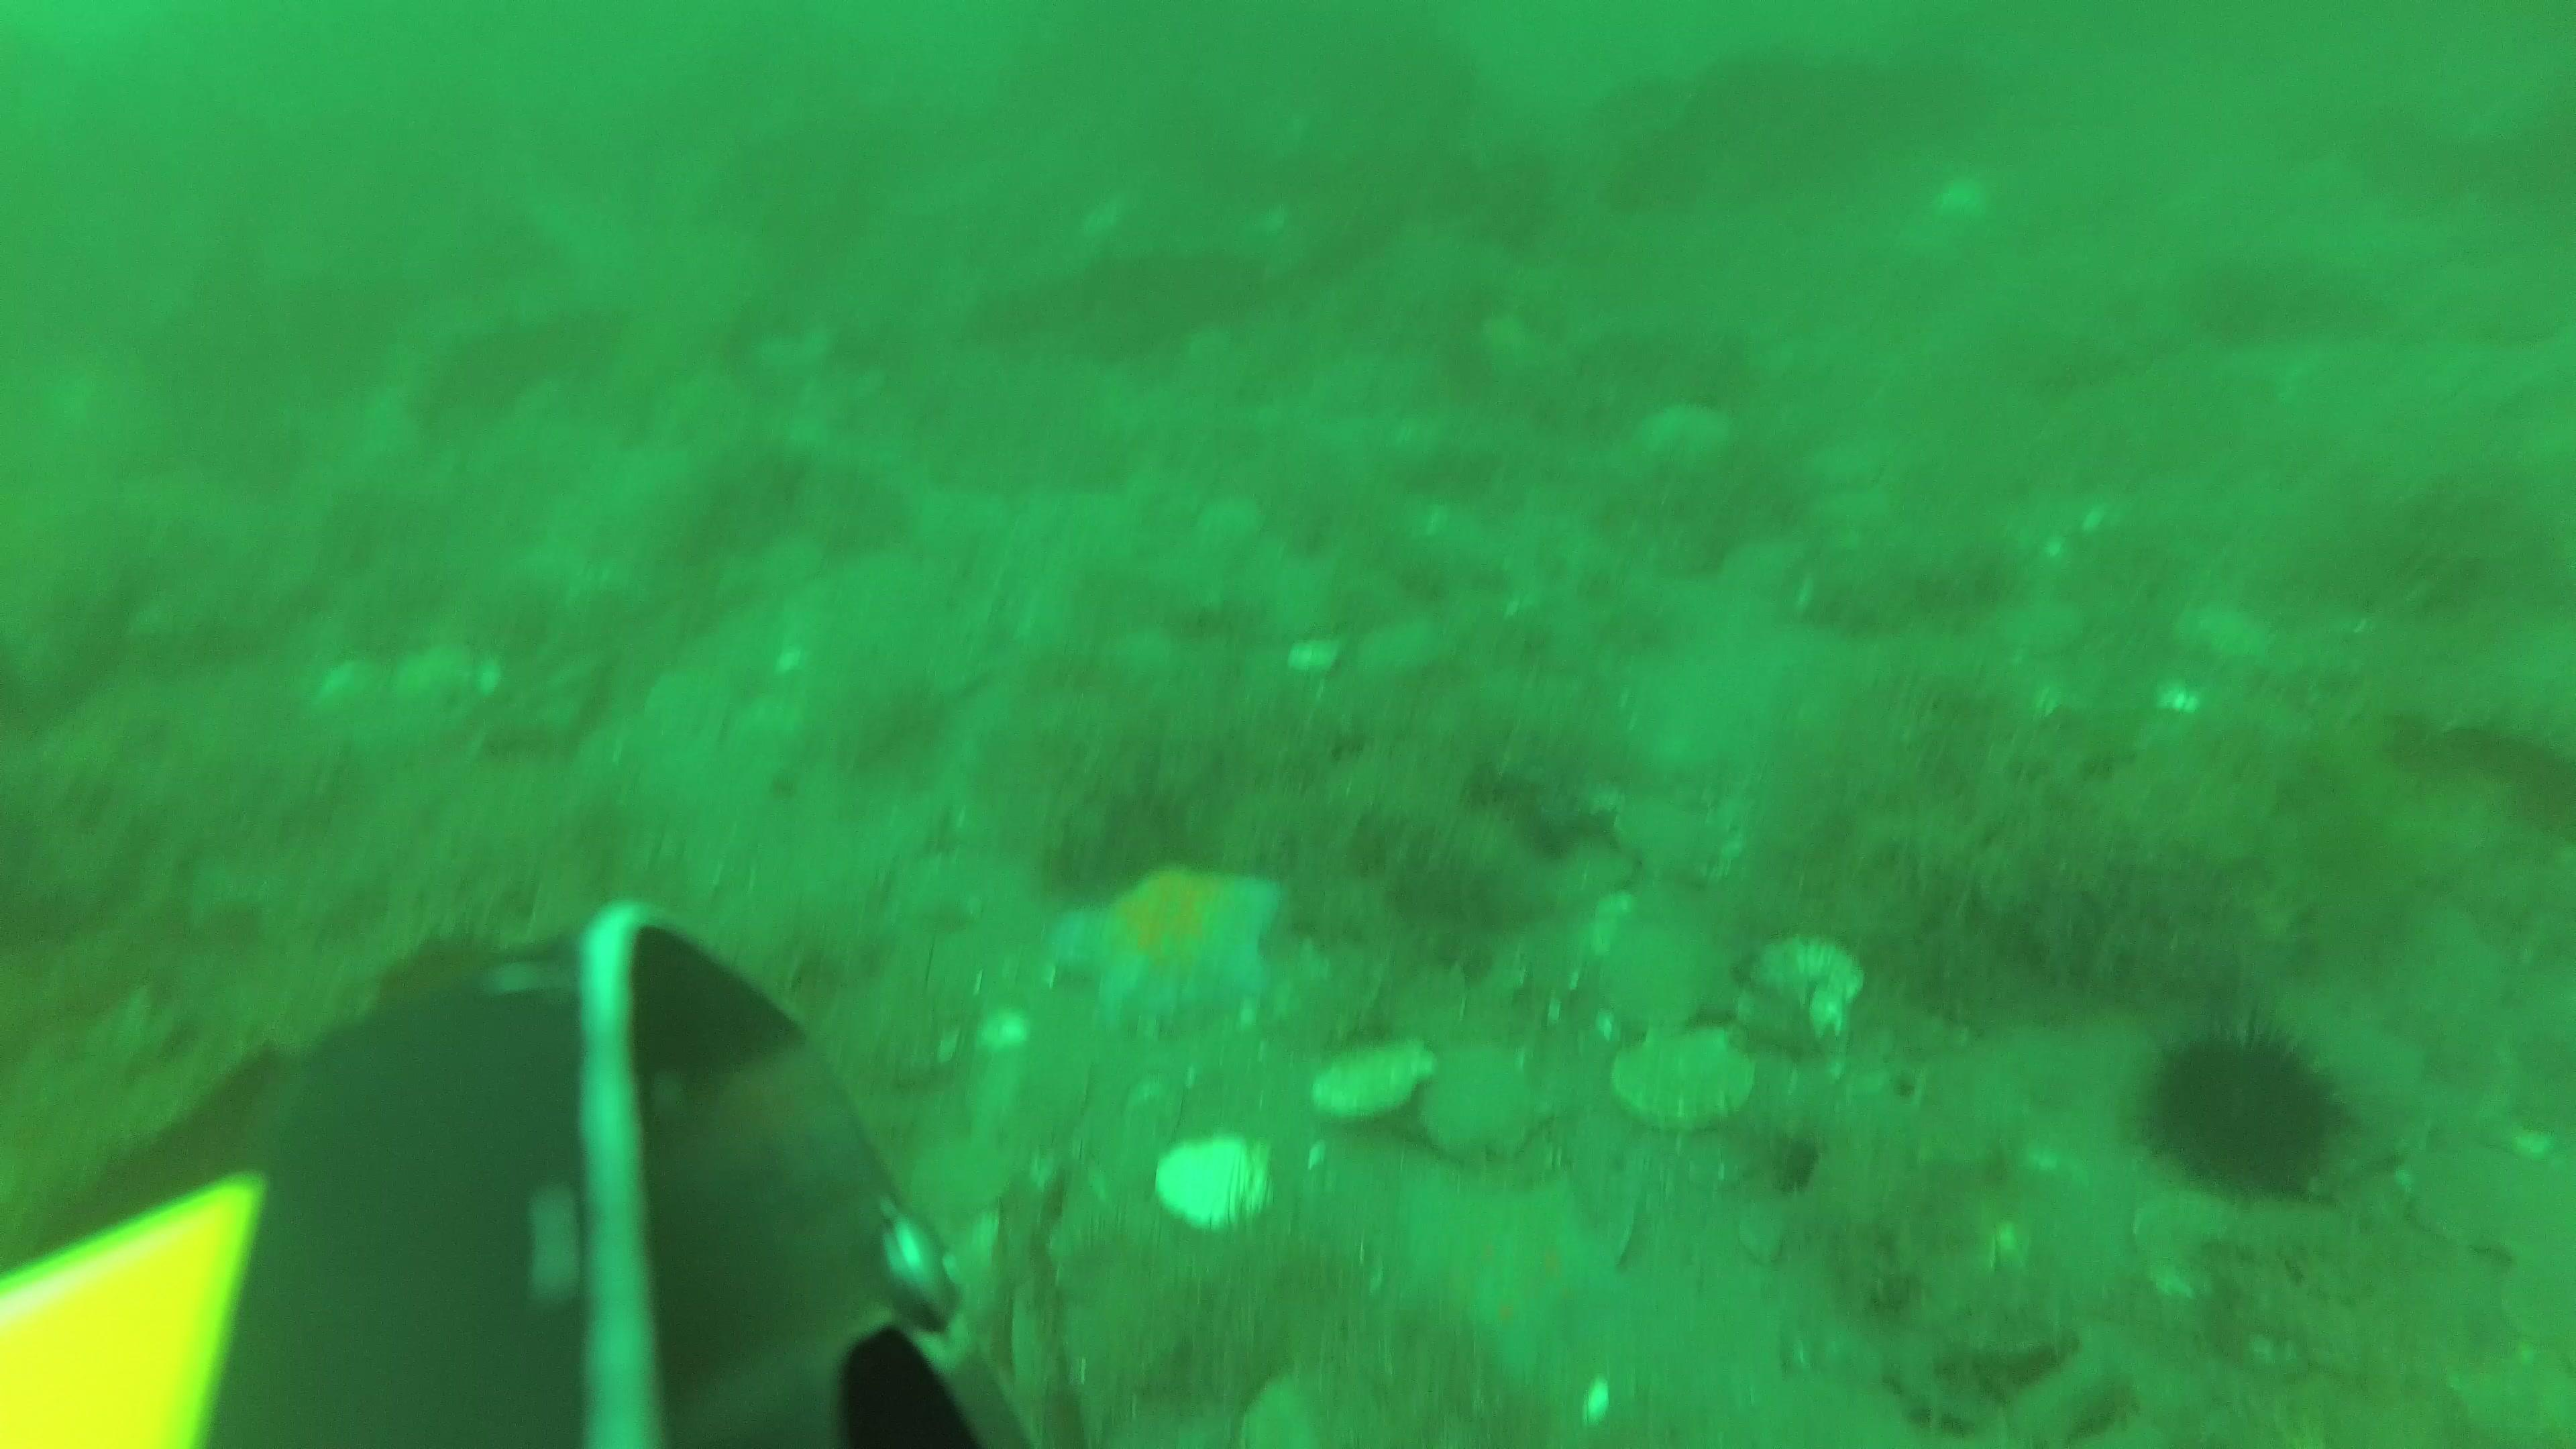echinus: (2121, 975, 2367, 1207)
holothurian: (1893, 1318, 2088, 1433)
scallop: (2410, 1132, 2569, 1260), (1730, 934, 1870, 1067), (1599, 1024, 1762, 1136), (1592, 916, 1746, 1028), (1152, 1132, 1288, 1240), (1422, 1046, 1530, 1166), (1610, 786, 1730, 890), (1309, 1033, 1444, 1125), (989, 1049, 1093, 1145), (913, 1136, 1017, 1210), (1237, 1368, 1322, 1449)
starfish: (1387, 1171, 1652, 1387), (1049, 858, 1290, 1037), (1629, 389, 1744, 474)
